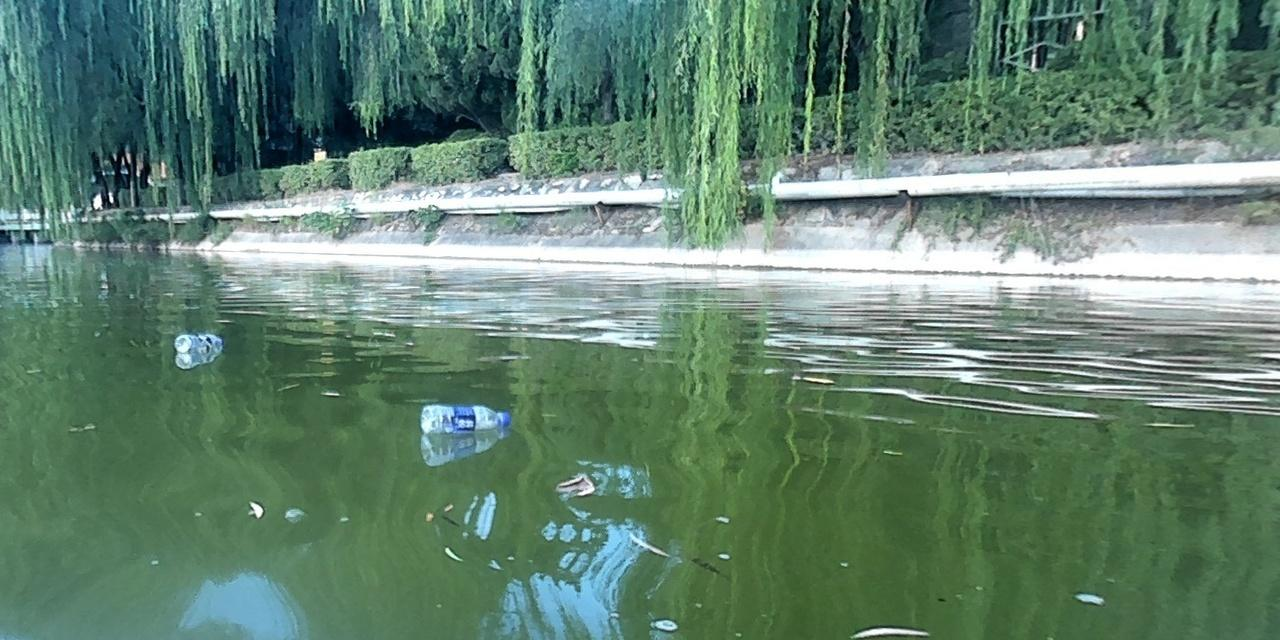bottle: (417, 398, 514, 437), (171, 330, 227, 356)
